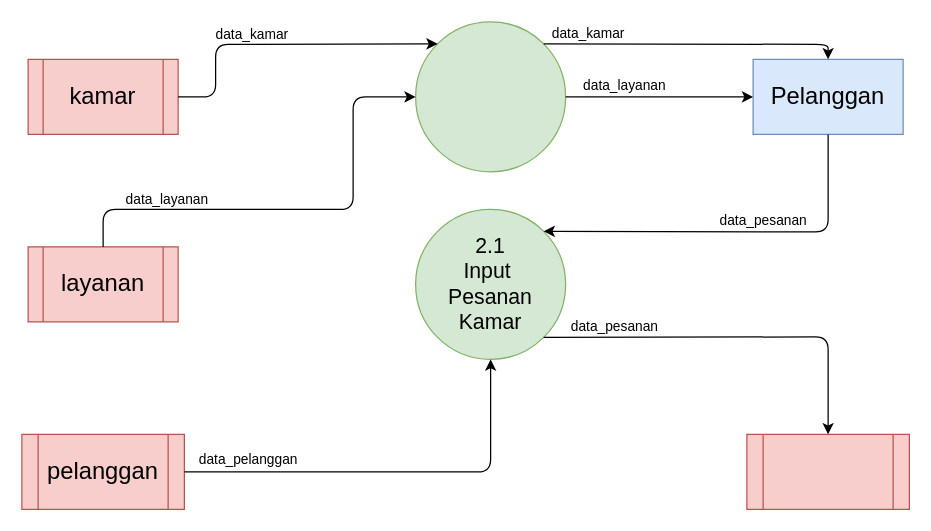
Some shapes in this 931 by 531 pixel diagram are drawn without their labels. Each missing label, with the box of its shape:
1.1 Tampilkan Daftar Kamar: (414, 21, 566, 172)
pesanan: (746, 433, 909, 509)
